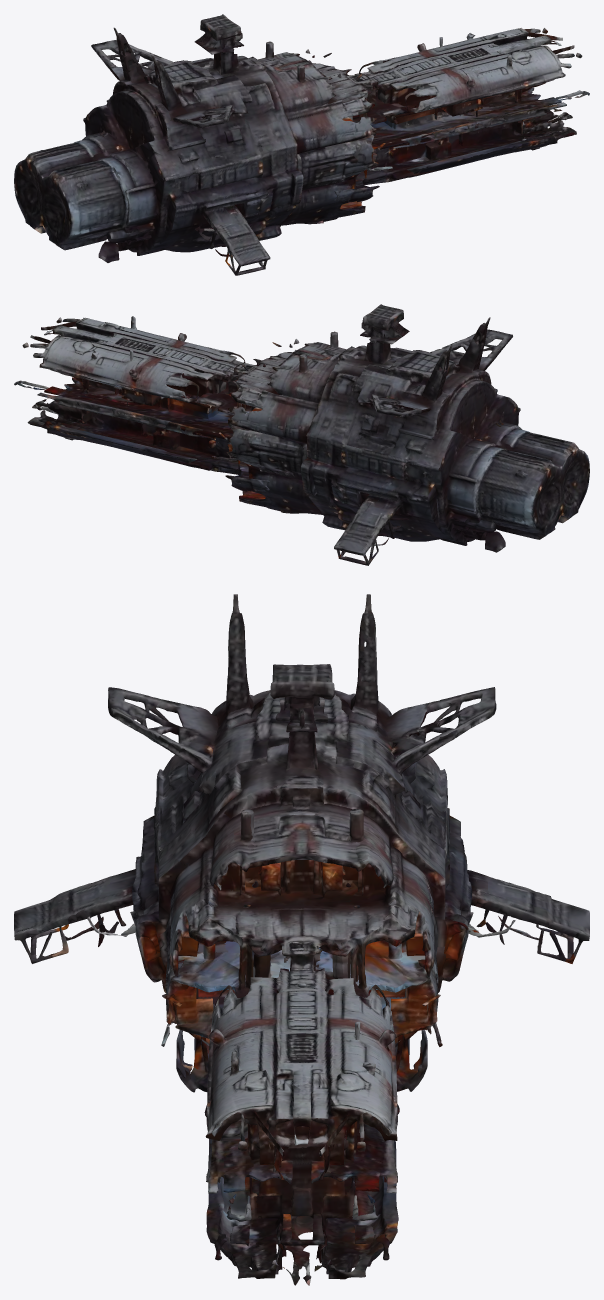
File: destroyedwarship-optimized.glb
3 views of the same model, one above another, from view 1: azimuth 30°, elevation 25°; view 2: azimuth 150°, elevation 25°; view 3: azimuth 270°, elevation 25° (orthographic). The views are drawn at different scales.
Parts seen in each view (by area): view 1: tripo_node_f4f79156-233c-4541-ac84-d426ba65b08c; view 2: tripo_node_f4f79156-233c-4541-ac84-d426ba65b08c; view 3: tripo_node_f4f79156-233c-4541-ac84-d426ba65b08c.
Boxes of the visible parts, x1,y1,x2,y2 form: tripo_node_f4f79156-233c-4541-ac84-d426ba65b08c: (14, 14, 589, 275); tripo_node_f4f79156-233c-4541-ac84-d426ba65b08c: (14, 304, 589, 565); tripo_node_f4f79156-233c-4541-ac84-d426ba65b08c: (14, 594, 589, 1285).
Bounding box in the file's own units: 0.9999 × 0.4015 × 0.538.
Materials: 1 (1 with a texture image).
